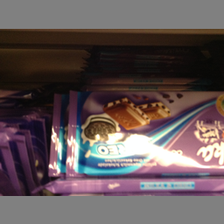chocolate: (66, 89, 224, 179)
